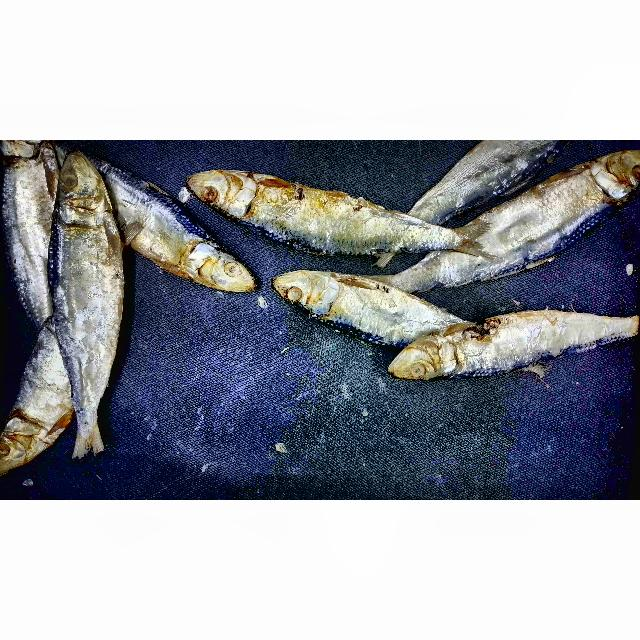Grade_C_Body: (470, 173, 594, 288), (269, 174, 431, 259), (50, 221, 125, 382), (452, 301, 603, 378), (105, 168, 195, 277), (419, 140, 548, 213), (0, 161, 59, 319), (342, 274, 447, 343), (4, 326, 68, 430)
Grade_C_Head: (52, 151, 117, 234), (185, 164, 270, 223), (266, 265, 348, 322), (384, 327, 457, 385), (191, 237, 255, 302), (581, 147, 640, 214)
Grade_C_Tail: (70, 391, 107, 458)
